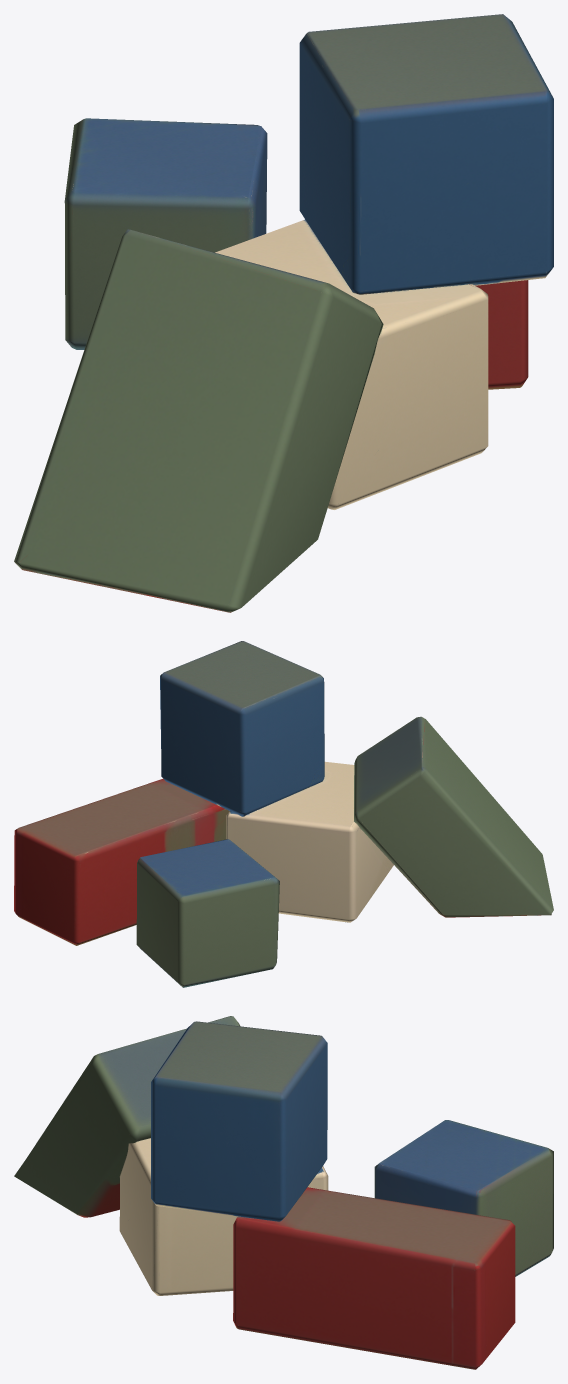
Rendered from toy_blocks.glb.
3 views of the same model, one above another, from view 1: azimuth 30°, elevation 25°; view 2: azimuth 150°, elevation 25°; view 3: azimuth 270°, elevation 25° (orthographic). The views are drawn at different scales.
Size of the model in its own units: 0.9536 by 0.4556 by 0.9229.
1 material, 1 textured.
